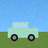vehicle: (8, 22, 38, 41)
